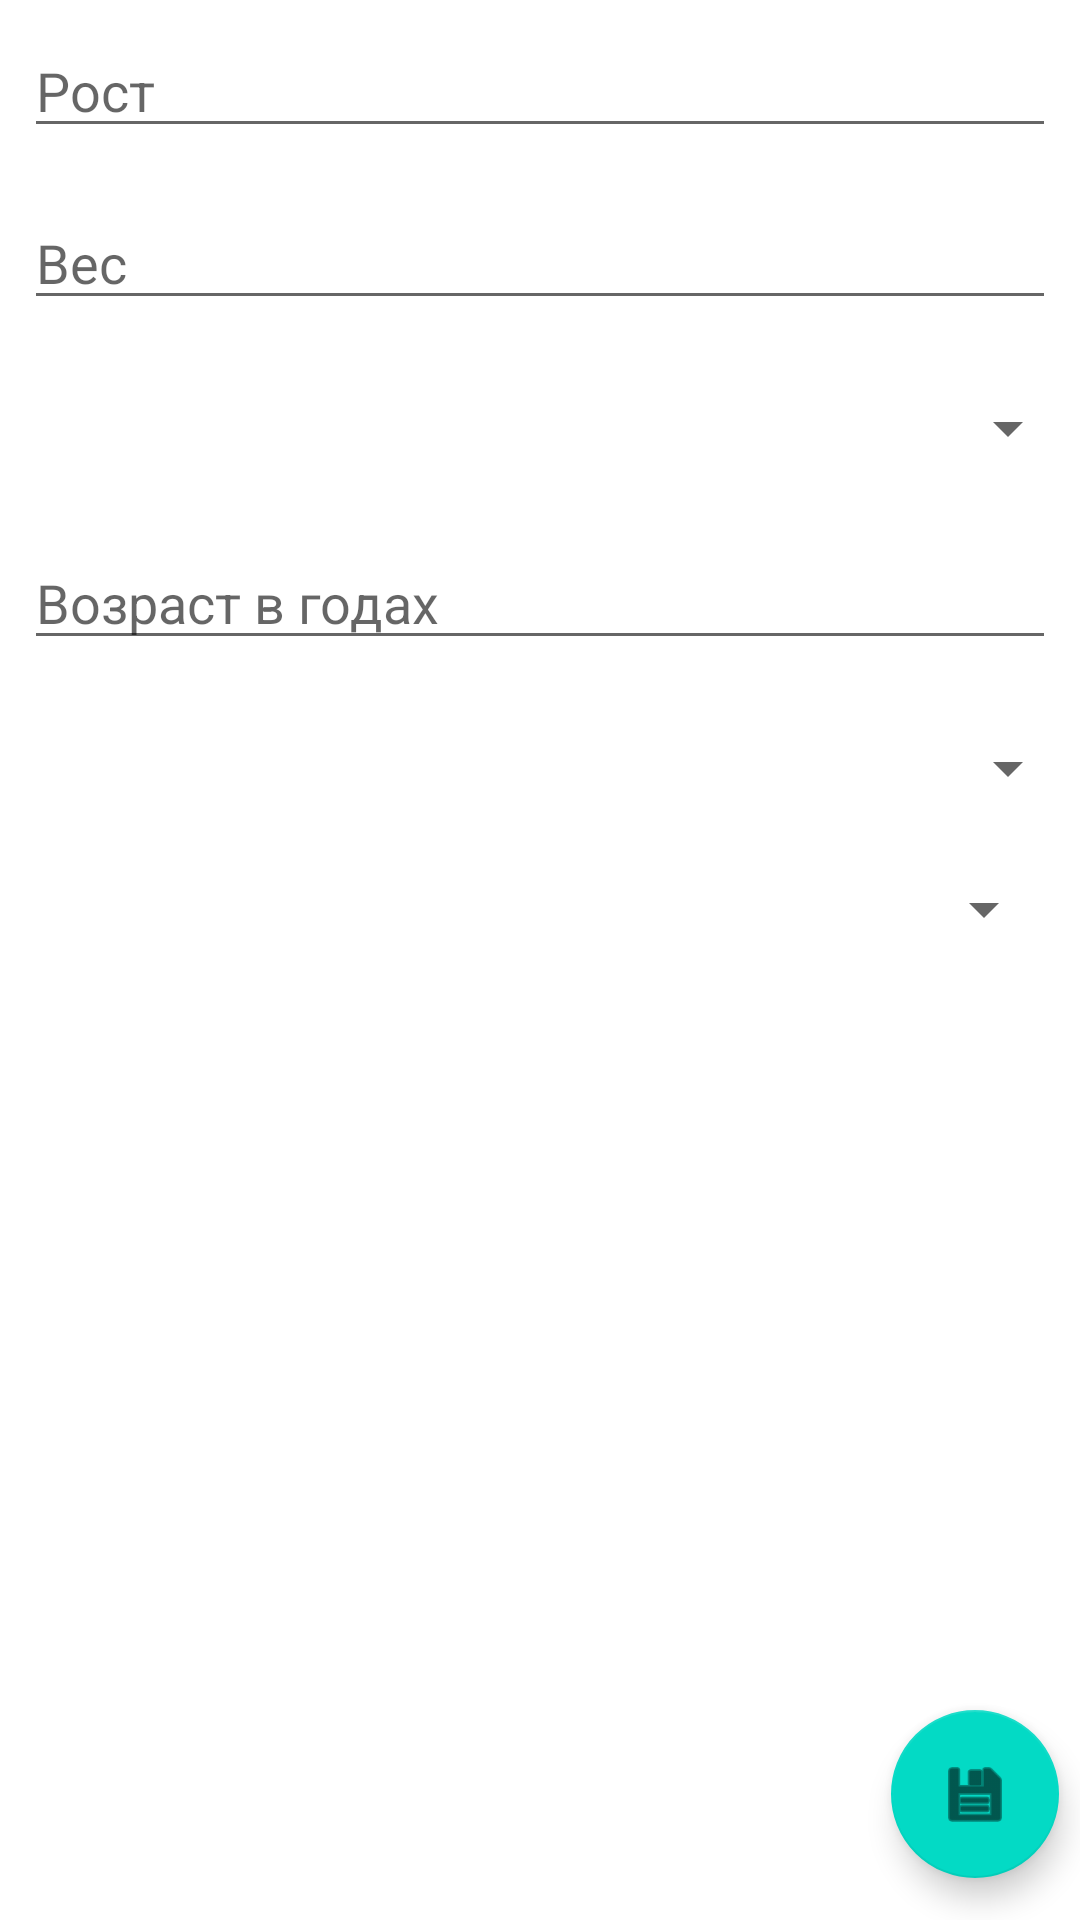

Icons on this 1080w x 1920h Android screen, each with its box as Rect(x1, y1, x2, y2):
save: Rect(891, 1710, 1059, 1878)
